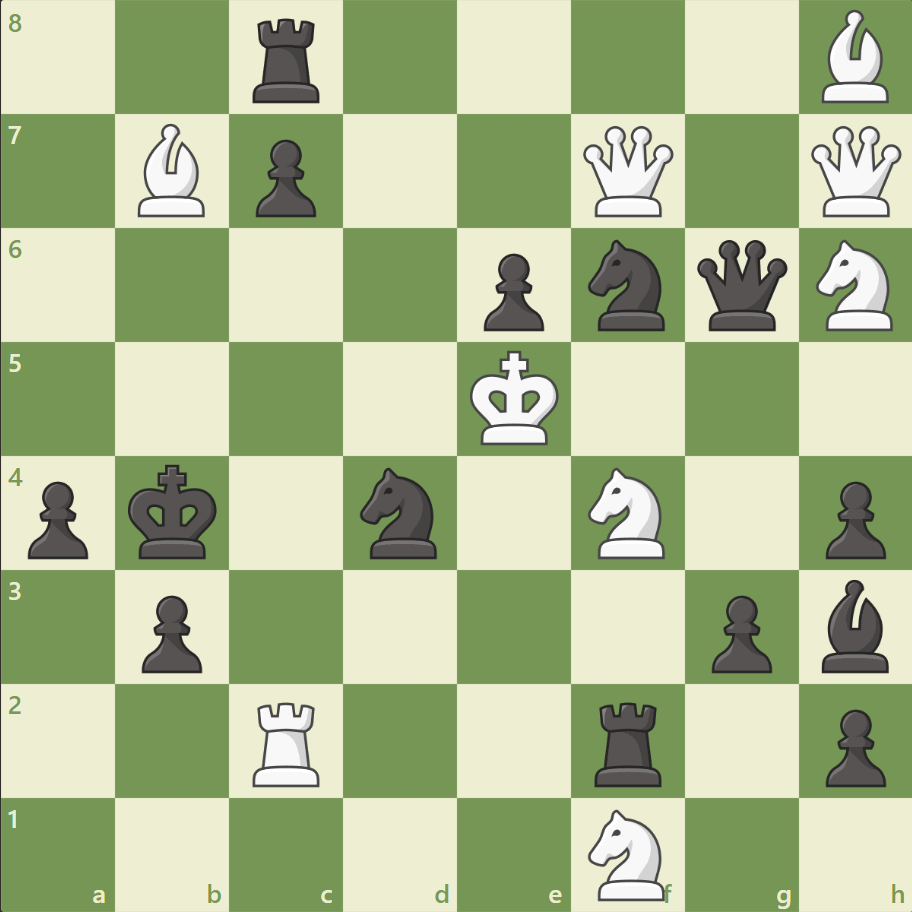B: (812, 6, 896, 109), (131, 120, 215, 222)
K: (465, 344, 565, 452)
N: (806, 234, 903, 337), (579, 461, 676, 564), (579, 802, 676, 904)
Q: (578, 122, 677, 222), (805, 122, 904, 222)
R: (246, 693, 329, 790)
b: (812, 574, 896, 676)
k: (124, 458, 224, 566)
n: (351, 461, 449, 564), (579, 234, 676, 337)
p: (247, 132, 322, 223), (474, 246, 549, 337), (20, 473, 95, 564), (133, 586, 208, 677), (701, 586, 776, 677), (815, 473, 889, 564), (815, 700, 889, 791)
q: (691, 236, 790, 335)
r: (246, 12, 329, 109), (587, 693, 670, 790)
